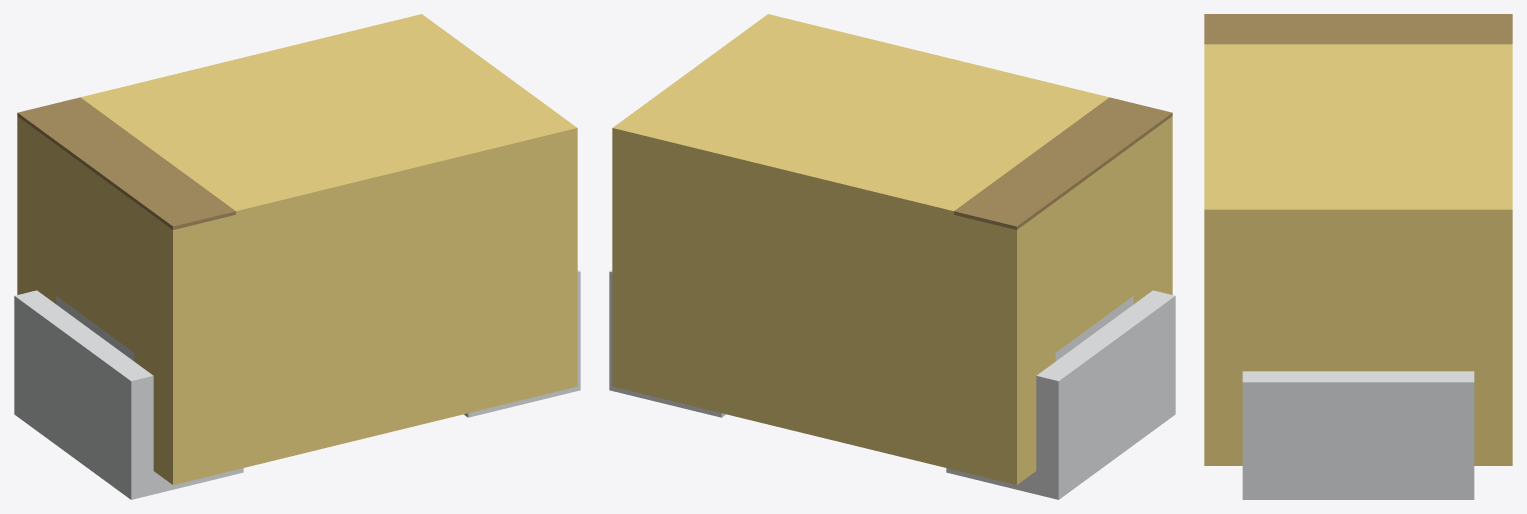
File: tantalum_capacitor_2012_true_scale.glb
The picture shows the model from 3 angles, left to right: view 1: azimuth 30°, elevation 25°; view 2: azimuth 150°, elevation 25°; view 3: azimuth 270°, elevation 25°; orthographic projection.
Parts seen in each view (by area): view 1: mould, lead_frame_L, band, lead_frame_R; view 2: mould, lead_frame_L, band, lead_frame_R; view 3: mould, lead_frame_R, band.
Boxes of the visible parts, box(x1,y1,x2,y2) form: mould: box(17, 14, 577, 484); lead_frame_L: box(14, 290, 243, 499); band: box(17, 97, 235, 229); lead_frame_R: box(464, 270, 580, 417); mould: box(612, 14, 1172, 484); lead_frame_L: box(946, 290, 1175, 499); band: box(954, 97, 1172, 229); lead_frame_R: box(609, 270, 725, 417); mould: box(1204, 44, 1512, 465); lead_frame_R: box(1242, 371, 1474, 499); band: box(1204, 14, 1512, 44).
Bounding box in the file's own units: 2 × 1.2 × 1.2.
